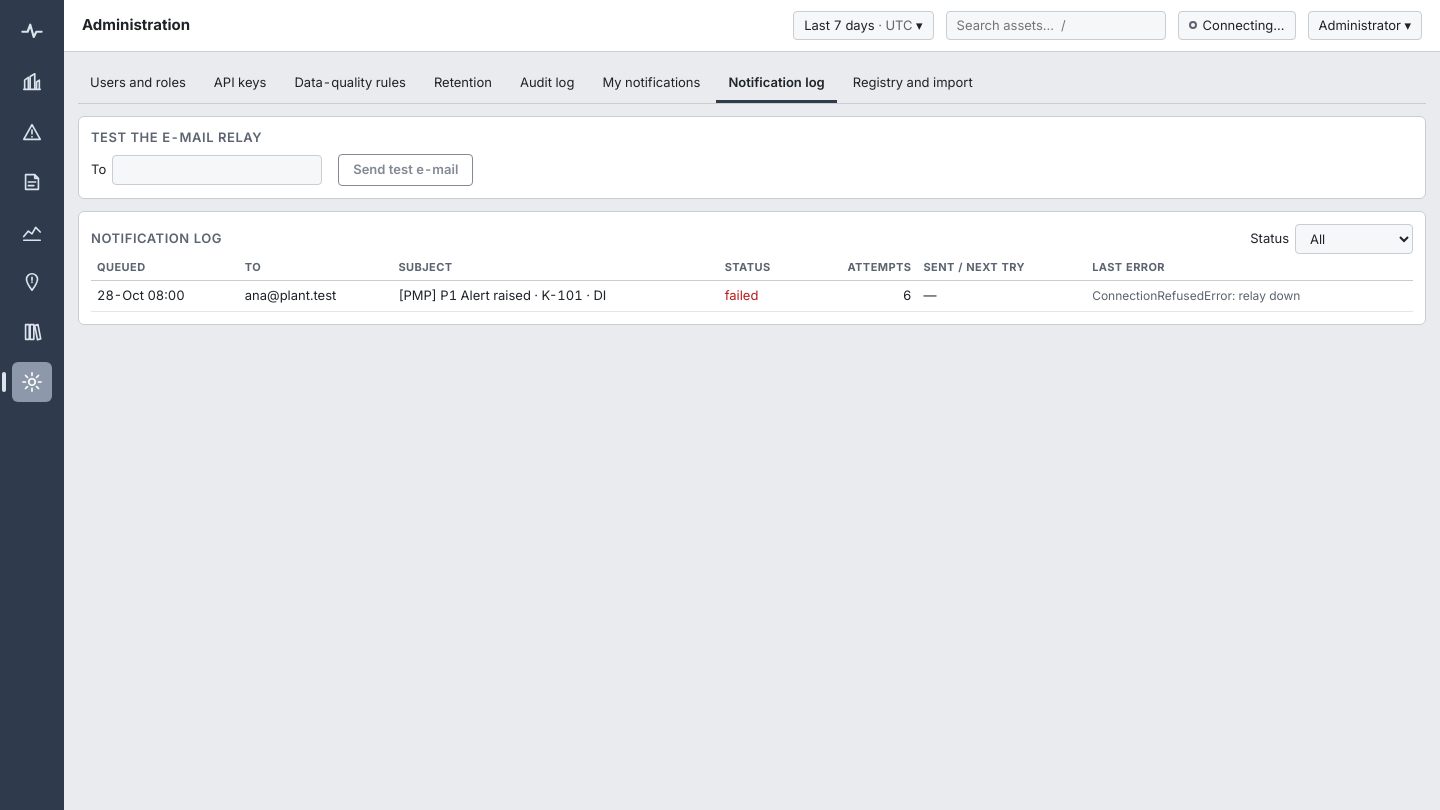
Test: notifications › shows administrators the delivery log and sends a test e-mail
Expected: the text "ConnectionRefusedError: relay down" is shown, [1086, 281, 1413, 311]
Expected: the text "failed" is shown, [719, 281, 805, 311]
Type "ops@plant.test" into the field labelled "To" at (217, 170), box [112, 155, 322, 185]
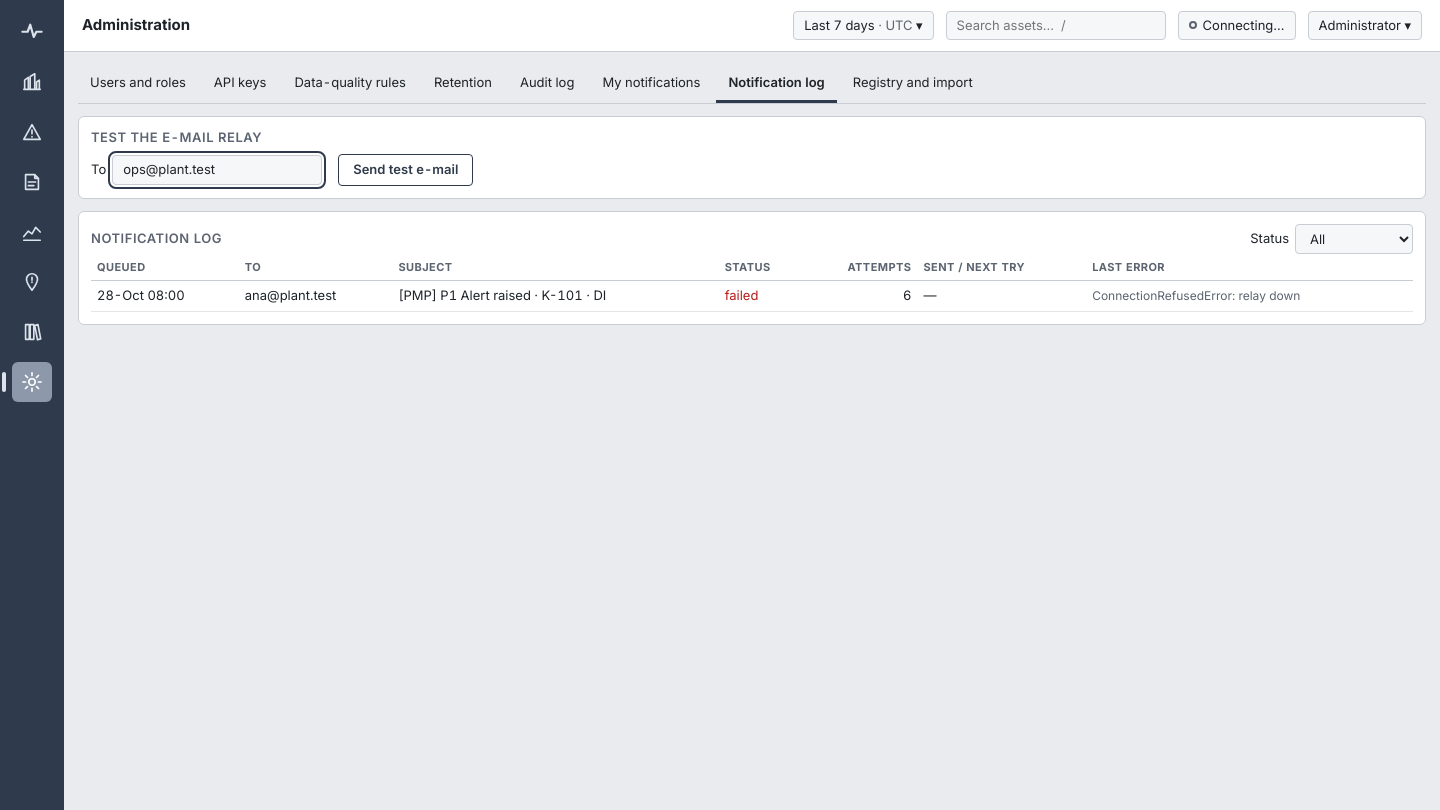
Click the button "Send test e-mail" at (406, 170), box [338, 154, 473, 186]
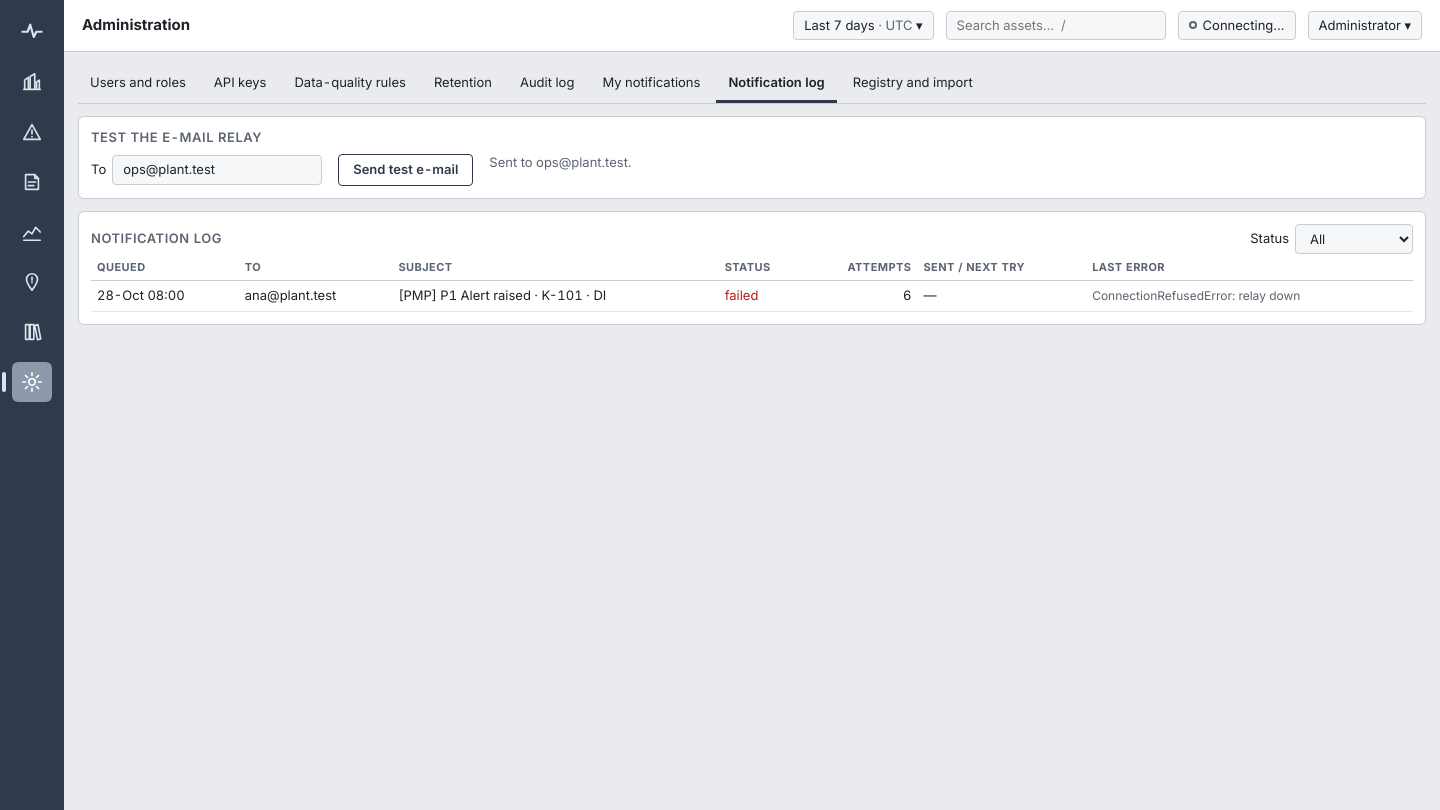
Expected: the text "Sent to ops@plant.test." is shown, [489, 154, 631, 170]
